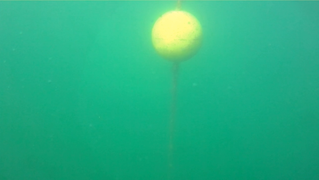buoy: (150, 9, 203, 62)
